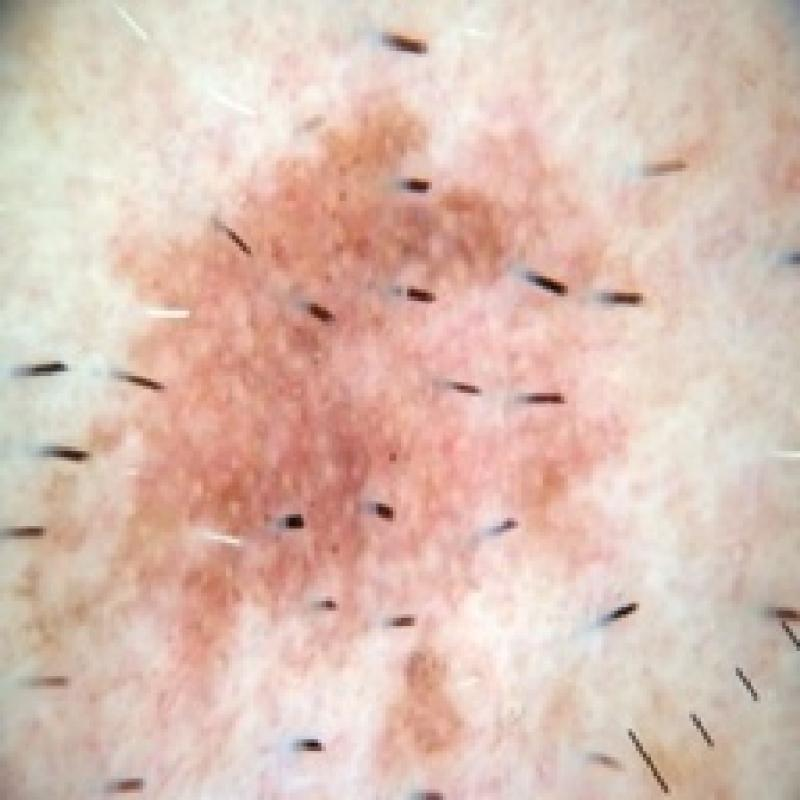malignant: (93, 83, 681, 723)
